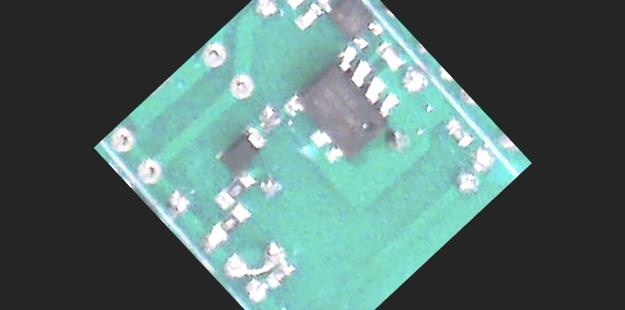chip-capacitor: (371, 37, 406, 73), (290, 0, 324, 32)
chip-resistor: (204, 199, 252, 245), (210, 166, 256, 211), (439, 113, 476, 150), (262, 257, 295, 290), (268, 0, 308, 11)
diode: (214, 120, 270, 176)
ic: (276, 39, 409, 172), (311, 0, 387, 52)
